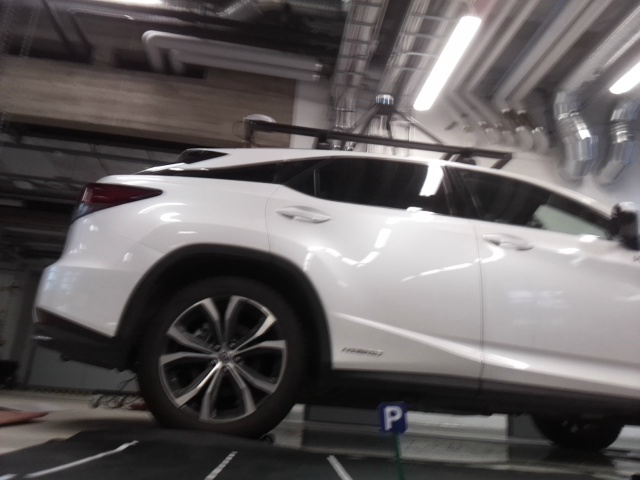Parking: (377, 403, 406, 432)
